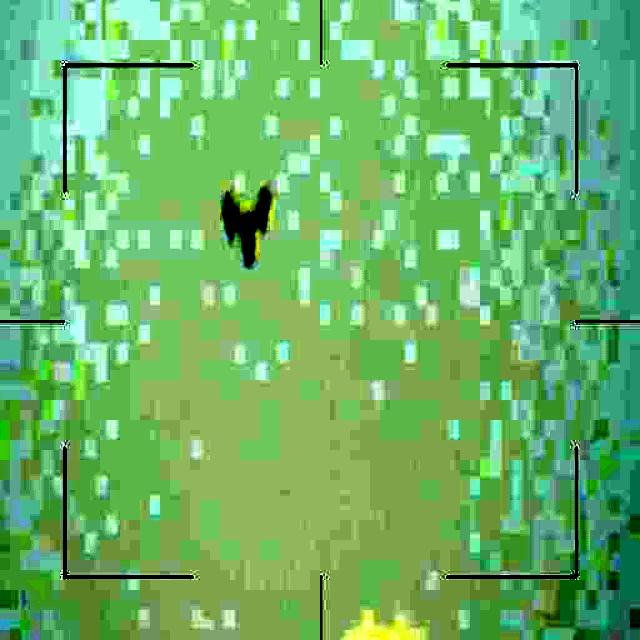bird: (215, 179, 275, 271)
